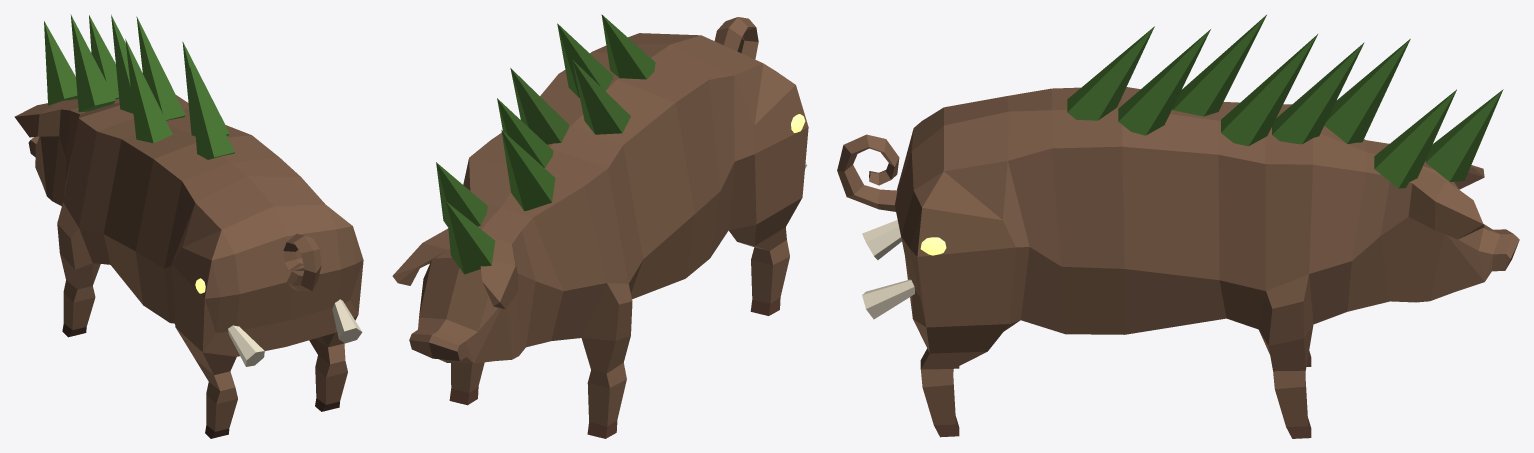
Rendered from Thornboar.fbx.
3 renders of one model, left to right at view 1: azimuth 30°, elevation 25°; view 2: azimuth 150°, elevation 25°; view 3: azimuth 270°, elevation 25°, orthographic. The views are drawn at different scales.
Parts seen in each view (by area): view 1: Head, Body, Deco_Thorns, LegBL, Deco_Tusks, LegFR, LegFL; view 2: Body, Head, Deco_Thorns, LegBL, LegFL, LegBR; view 3: Body, Head, Deco_Thorns, LegBR, Deco_Tusks, LegFR.
Part boxes in pixels (x1=…): Head: x1=164, y1=176, x2=363, y2=404; Body: x1=14, y1=95, x2=300, y2=322; Deco_Thorns: x1=44, y1=14, x2=234, y2=159; LegBL: x1=57, y1=118, x2=110, y2=337; Deco_Tusks: x1=228, y1=299, x2=362, y2=366; LegFR: x1=315, y1=367, x2=347, y2=411; LegFL: x1=205, y1=394, x2=237, y2=438; Body: x1=392, y1=44, x2=734, y2=363; Head: x1=628, y1=17, x2=808, y2=264; Deco_Thorns: x1=436, y1=14, x2=655, y2=274; LegBL: x1=551, y1=169, x2=642, y2=438; LegFL: x1=750, y1=256, x2=789, y2=315; LegBR: x1=449, y1=362, x2=484, y2=405; Body: x1=1008, y1=87, x2=1519, y2=334; Head: x1=837, y1=96, x2=1029, y2=387; Deco_Thorns: x1=1067, y1=15, x2=1503, y2=188; LegBR: x1=1219, y1=164, x2=1351, y2=438; Deco_Tusks: x1=862, y1=220, x2=914, y2=319; LegFR: x1=922, y1=378, x2=959, y2=437.
Bounding box in the file's own units: 1.78 × 3.18 × 5.2.
Materials: 2 (1 with a texture image).
